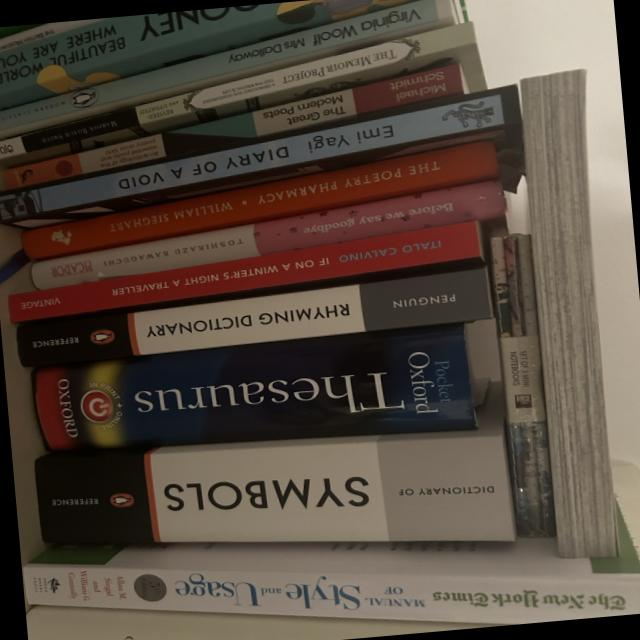book: (31, 382, 515, 585), (0, 86, 524, 232), (0, 21, 486, 166), (23, 526, 640, 640), (0, 61, 468, 198), (0, 0, 457, 139), (30, 322, 481, 458), (18, 138, 500, 264), (26, 179, 507, 291), (5, 220, 485, 332), (15, 266, 492, 368), (0, 0, 414, 110)
